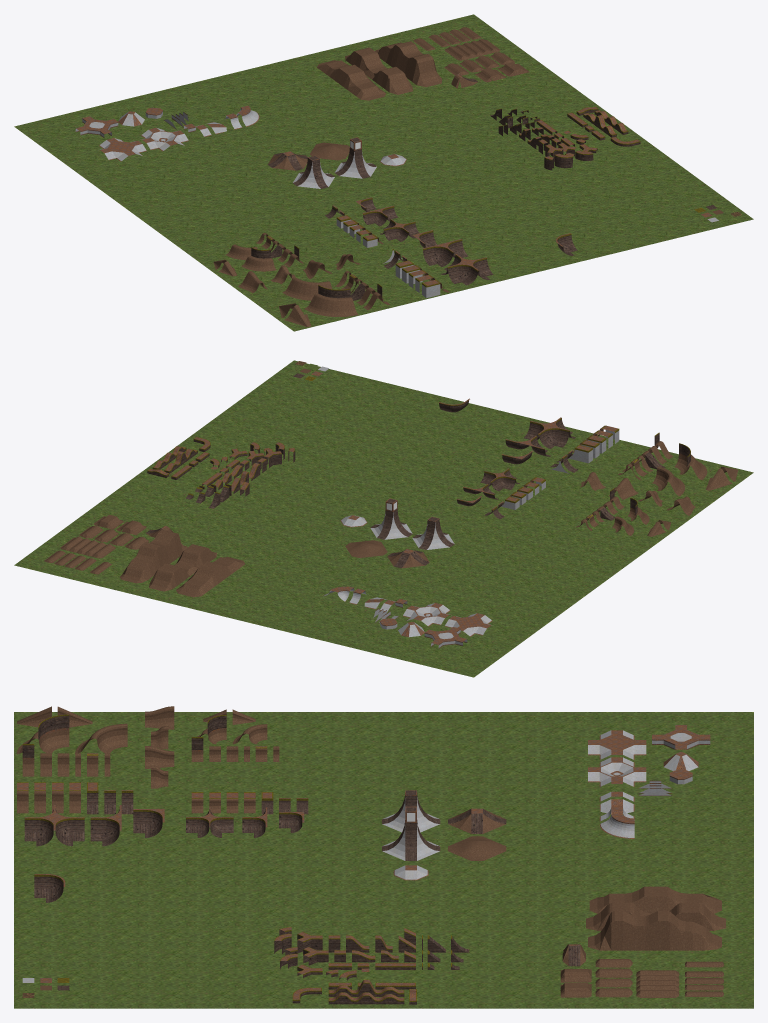
The model's file is low-poly_dirt_park_modular_kit.glb.
3 views of the same model, one above another, from view 1: azimuth 30°, elevation 25°; view 2: azimuth 150°, elevation 25°; view 3: azimuth 270°, elevation 25° (orthographic). The views are drawn at different scales.
Visible parts, largest first — view 1: Plane, DirtHillSet, LedgeSet, ConcreteBunkerSet, PyramidSet; view 2: Plane, DirtHillSet, LedgeSet, ConcreteBunkerSet, PyramidSet; view 3: Plane, DirtHillSet, LedgeSet, ConcreteBunkerSet, PyramidSet.
Boxes of the visible parts, x1=… form: Plane: x1=14, y1=14, x2=753, y2=331; DirtHillSet: x1=317, y1=27, x2=529, y2=100; LedgeSet: x1=490, y1=106, x2=640, y2=170; ConcreteBunkerSet: x1=75, y1=105, x2=259, y2=161; PyramidSet: x1=267, y1=137, x2=406, y2=188; Plane: x1=14, y1=360, x2=753, y2=677; DirtHillSet: x1=44, y1=514, x2=244, y2=597; LedgeSet: x1=147, y1=437, x2=295, y2=508; ConcreteBunkerSet: x1=323, y1=586, x2=493, y2=648; PyramidSet: x1=340, y1=498, x2=454, y2=568; Plane: x1=14, y1=706, x2=753, y2=1008; DirtHillSet: x1=560, y1=886, x2=725, y2=997; LedgeSet: x1=274, y1=927, x2=469, y2=1004; ConcreteBunkerSet: x1=588, y1=725, x2=710, y2=838; PyramidSet: x1=382, y1=790, x2=506, y2=880.
Bounding box in the file's own units: 361 × 22.51 × 381.
Materials: 8 (7 with a texture image).
